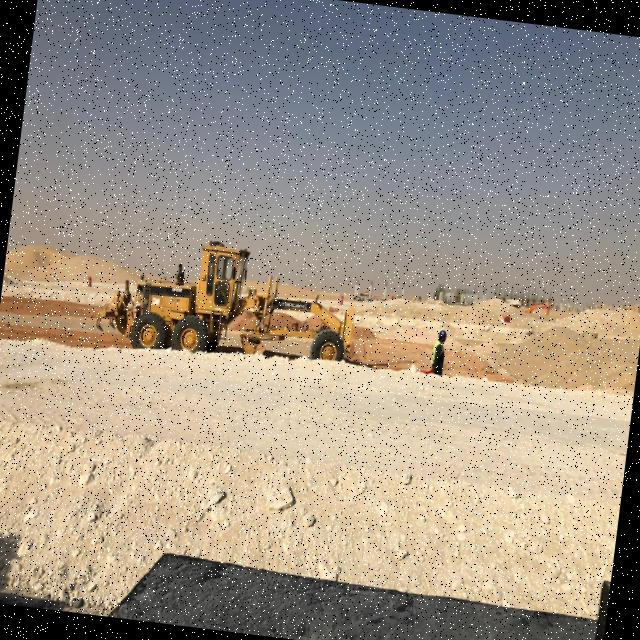Grader: (88, 225, 366, 388)
